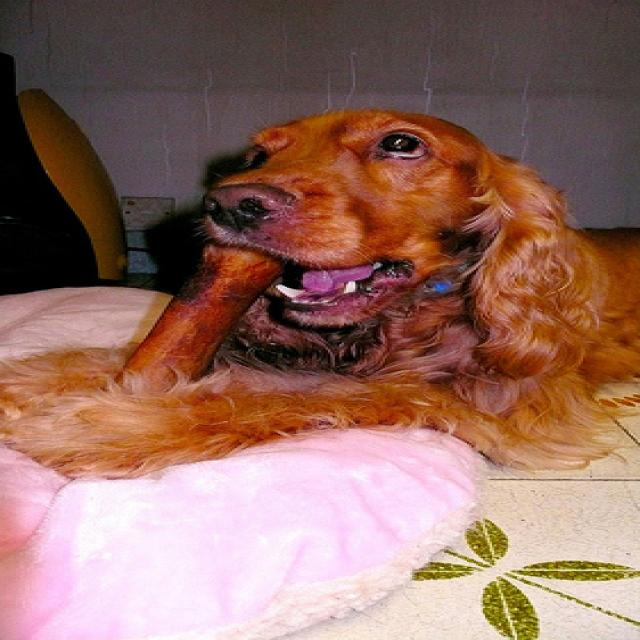dog-english_cocker_spaniel: (2, 96, 635, 486)
